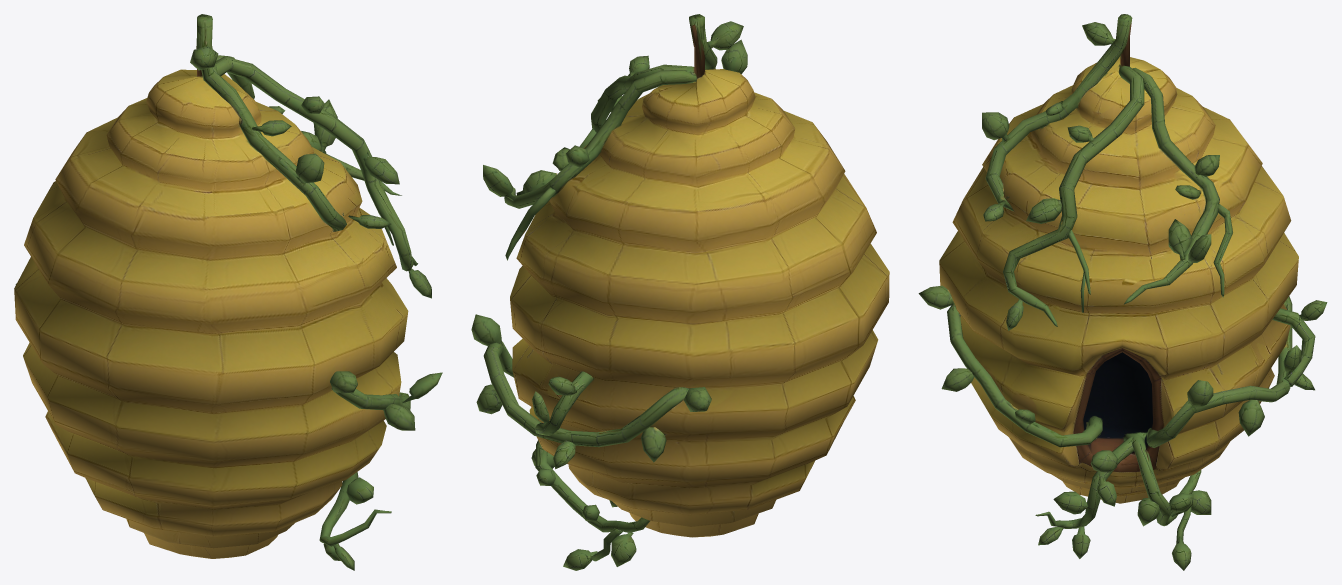
File: tripo_convert_67e9c3bc-e9fc-41be-bf74-88a96e28325e.fbx
The picture shows the model from 3 angles, left to right: view 1: azimuth 30°, elevation 25°; view 2: azimuth 150°, elevation 25°; view 3: azimuth 270°, elevation 25°; orthographic projection. The views are drawn at different scales.
Parts seen in each view (by area): view 1: tripo_node_67e9c3bc; view 2: tripo_node_67e9c3bc; view 3: tripo_node_67e9c3bc.
Part boxes in pixels (<box>): tripo_node_67e9c3bc: <box>14,14,442,570</box>; tripo_node_67e9c3bc: <box>471,14,889,570</box>; tripo_node_67e9c3bc: <box>918,14,1327,570</box>.
Bounding box in the file's own units: 0.6699 × 0.998 × 0.7285.
1 material, 1 textured.
